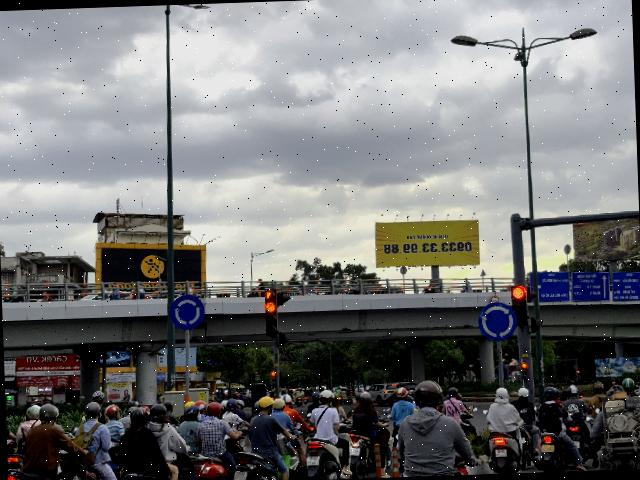noi-giao-nhau-chay-theo-vong-xuyen: (477, 301, 518, 342), (168, 294, 206, 331)
